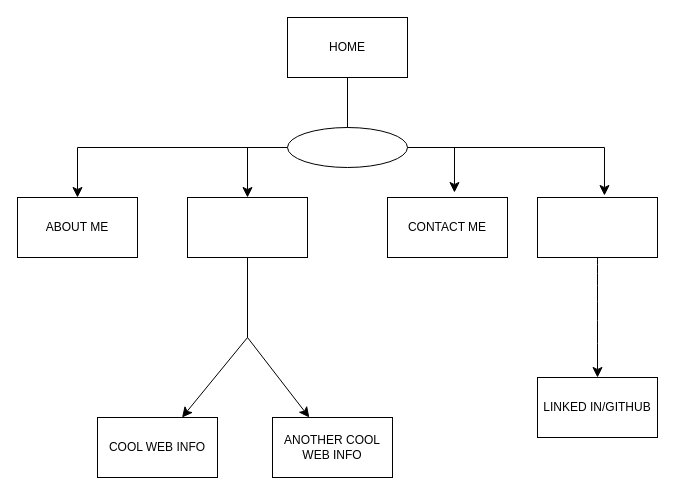
This 675x495 diagram has some shape labels left out. Here are the shapes that lost their labels. From the top down, the box of each, then its label:
(286, 126, 408, 168): NAV BAR
(186, 196, 308, 258): PROJECTS
(536, 196, 658, 258): SKILLS
